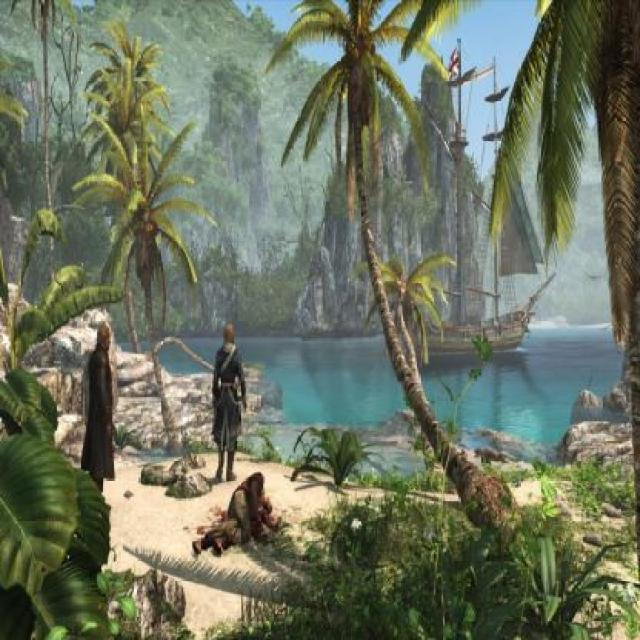Coconut: (129, 202, 160, 247), (344, 32, 376, 74)
